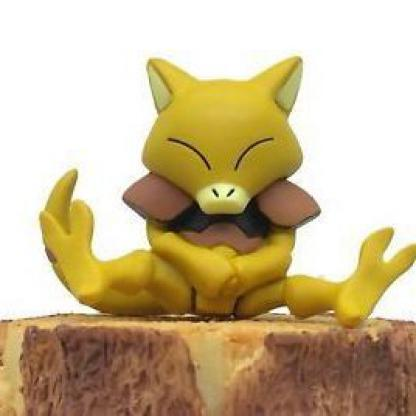Abra: (28, 46, 416, 330)
